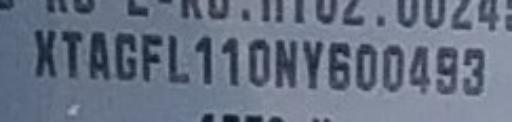letter: (164, 30, 192, 84), (298, 37, 326, 89), (326, 39, 354, 91), (138, 30, 164, 84), (274, 37, 300, 91), (244, 37, 272, 87), (32, 27, 58, 80), (406, 43, 434, 92), (378, 43, 406, 91), (58, 29, 84, 80), (84, 29, 110, 80), (112, 29, 138, 80), (434, 43, 460, 94), (462, 45, 488, 96), (352, 41, 378, 91), (218, 35, 242, 89), (194, 33, 214, 87)
